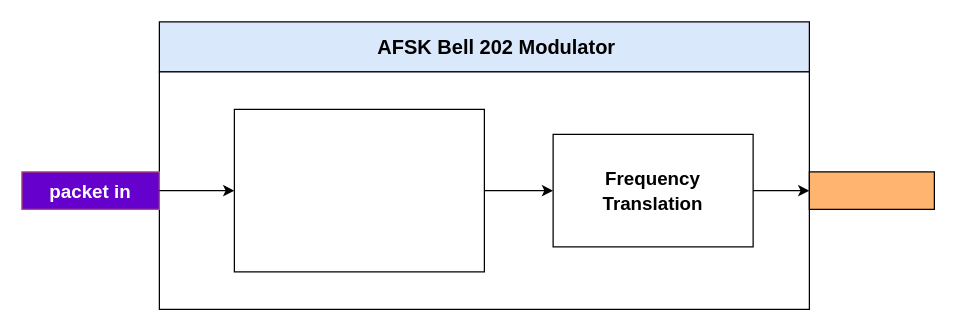
Image size: 956x331. Some labels were removed from this diagram. The shapes that lost their labels are listed below. From the top down, each one's centre as x and y in pixels, then its label:
At [358,190]: "AFSK Modulator".
At [871,190]: "afsk out".
